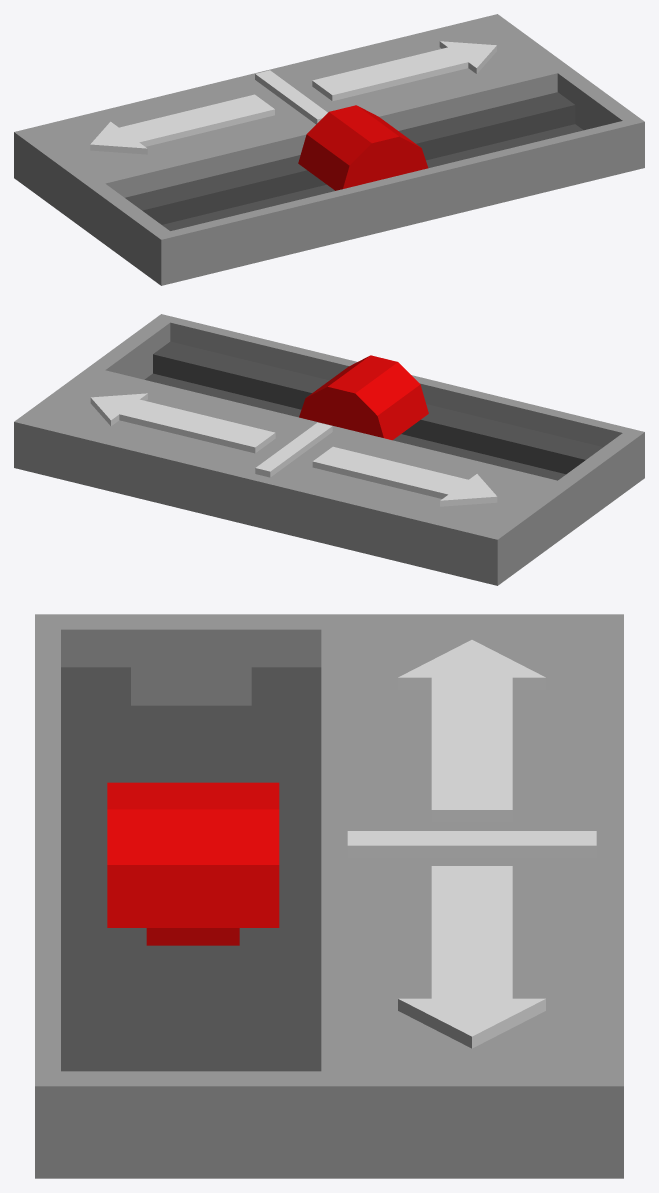
The model's file is ElevationMechanism.fbx.
3 views of the same model, one above another, from view 1: azimuth 30°, elevation 25°; view 2: azimuth 150°, elevation 25°; view 3: azimuth 270°, elevation 25° (orthographic). The views are drawn at different scales.
Parts seen in each view (by area): view 1: Elevation, ElevationSlider; view 2: Elevation, ElevationSlider; view 3: Elevation, ElevationSlider.
Part boxes in pixels (left/top/right/bottom): Elevation: left=14, top=14, right=644, bottom=285; ElevationSlider: left=298, top=105, right=428, bottom=190; Elevation: left=14, top=314, right=644, bottom=585; ElevationSlider: left=299, top=355, right=428, bottom=440; Elevation: left=35, top=614, right=623, bottom=1178; ElevationSlider: left=107, top=782, right=279, bottom=945.
Bounding box in the file's own units: 20.93 × 3.04 × 11.04.
